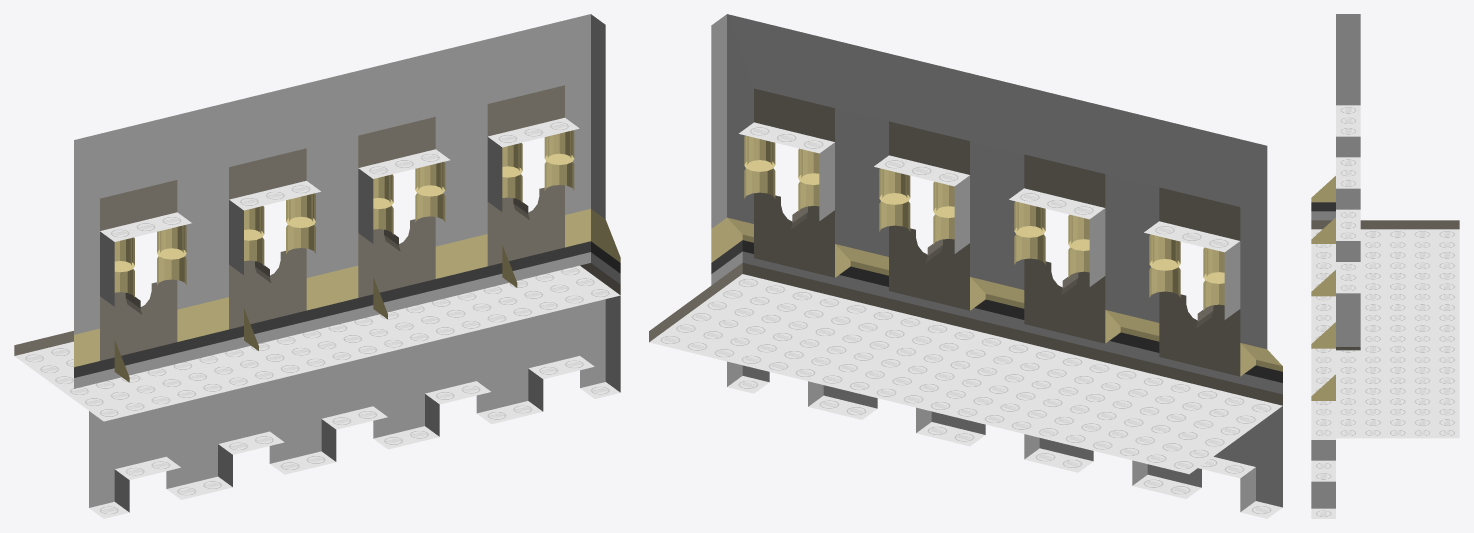
The picture shows the model from 3 angles, left to right: view 1: azimuth 30°, elevation 25°; view 2: azimuth 150°, elevation 25°; view 3: azimuth 270°, elevation 25°; orthographic projection. The views are drawn at different scales.
Visible parts, largest first — view 1: 004_MC008_PART_1, 011_MC008_PART_2; view 2: 004_MC008_PART_1, 011_MC008_PART_2; view 3: 004_MC008_PART_1, 011_MC008_PART_2.
Boxes of the visible parts, box(x1,y1,x2,y2) form: 004_MC008_PART_1: box(14, 14, 620, 421); 011_MC008_PART_2: box(89, 295, 620, 518); 004_MC008_PART_1: box(649, 14, 1282, 474); 011_MC008_PART_2: box(727, 361, 1282, 518); 004_MC008_PART_1: box(1311, 14, 1459, 438); 011_MC008_PART_2: box(1311, 438, 1335, 518).
Size of the model in its own units: 16 by 10.56 by 4.8.
Materials: 7 (3 with a texture image).
